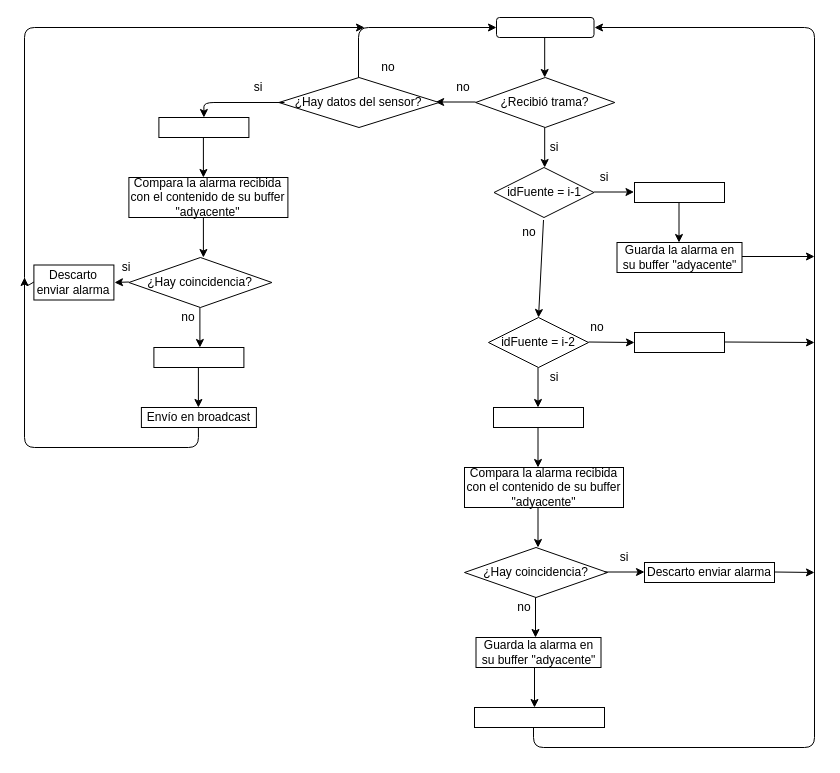
This 840x773 diagram has some shape labels left out. Each missing label, with the centre of its shape:
Formo trama: point (198, 357)
Genera alarma: point (203, 127)
Modo Recepción: point (545, 27)
Nodo INTN: point (679, 192)
Nodo RXN: point (538, 417)
Retransmito la alarma: point (539, 717)
Retx la alarma: point (679, 342)
